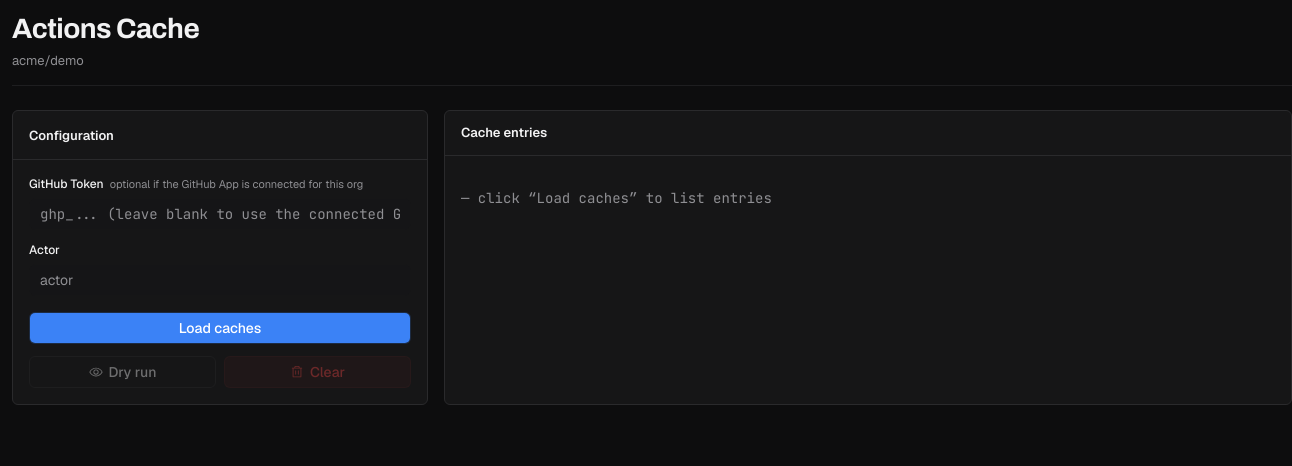
Test: CachePage › lets the user type and save a token, then shows the saved badge
Type "ghp_manual_1234567890123456789012" into the password field with placeholder "ghp_... (leave blank to use the connected GitHub App)".
click(220, 214); type("ghp_manual_1234567890123456789012")  # box [29, 198, 411, 230]
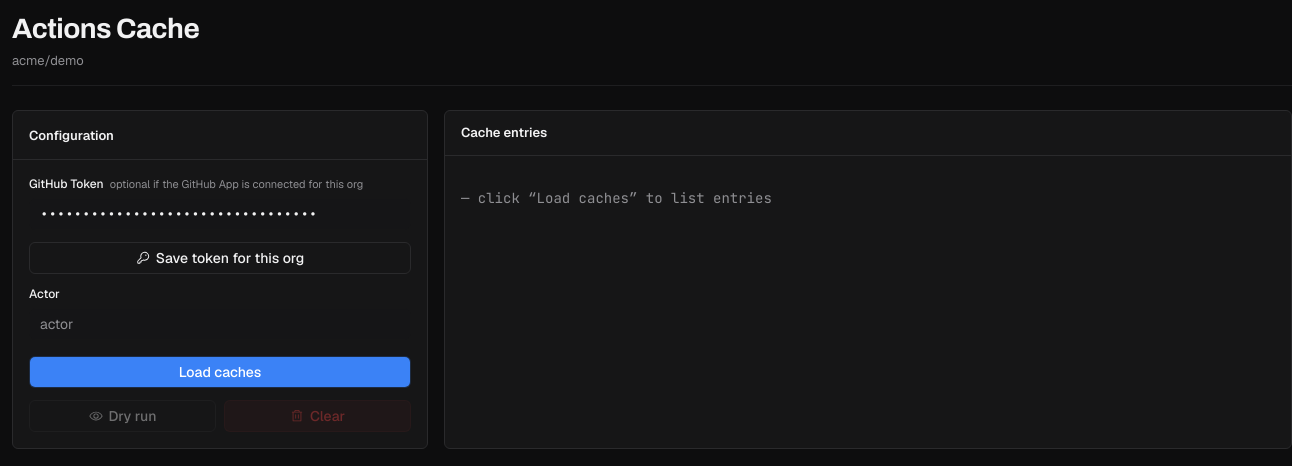
Click the button "Save token for this org".
click(220, 258)  # box [29, 242, 411, 274]
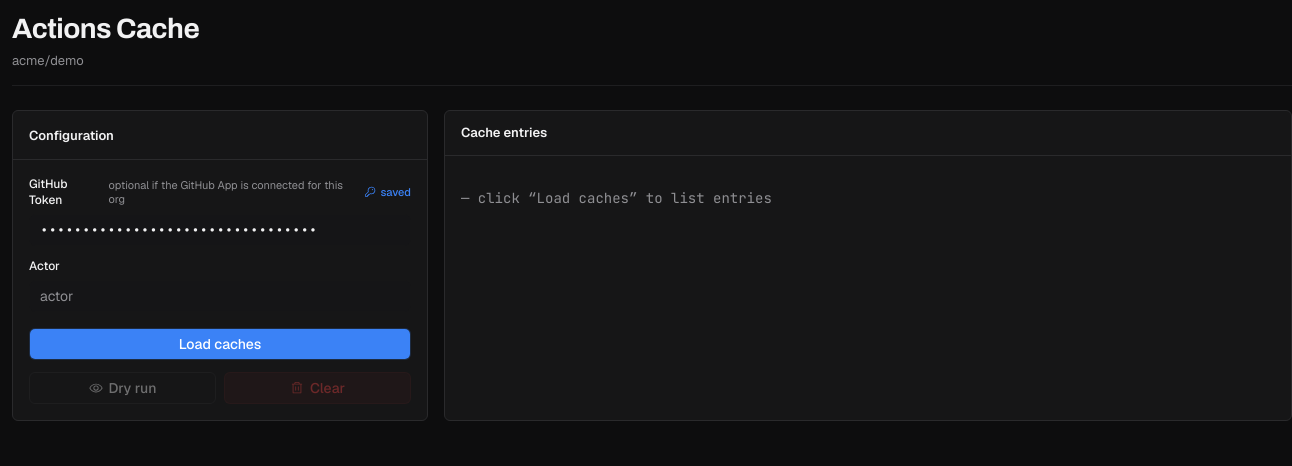
Expected: the text "saved" is shown, [364, 185, 411, 200]
